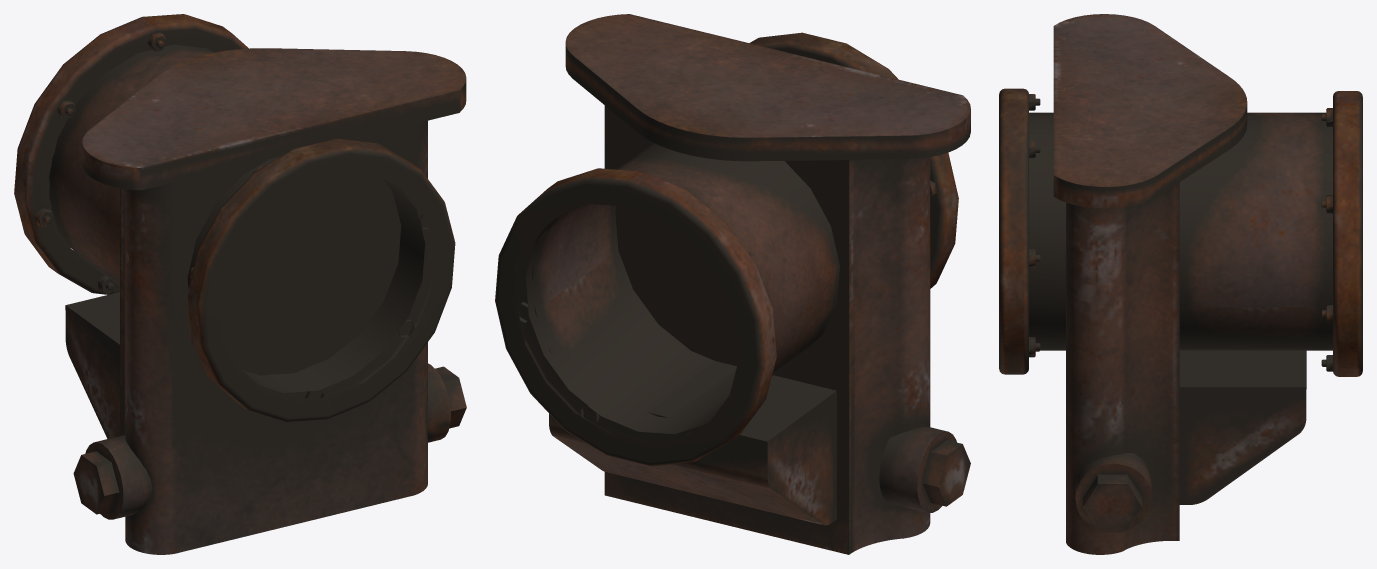
Rendered from kabeparts.fbx.
The picture shows the model from 3 angles, left to right: view 1: azimuth 30°, elevation 25°; view 2: azimuth 150°, elevation 25°; view 3: azimuth 270°, elevation 25°; orthographic projection. The views are drawn at different scales.
Parts seen in each view (by area): view 1: 04_01_0; view 2: 04_01_0; view 3: 04_01_0.
Part boxes in pixels (x1,y1,x2,y2): 04_01_0: [14, 14, 466, 554]; 04_01_0: [495, 14, 970, 554]; 04_01_0: [999, 14, 1362, 554].
Bounding box in the file's own units: 68.92 × 71.57 × 61.22.
Materials: 1 (1 with a texture image).
